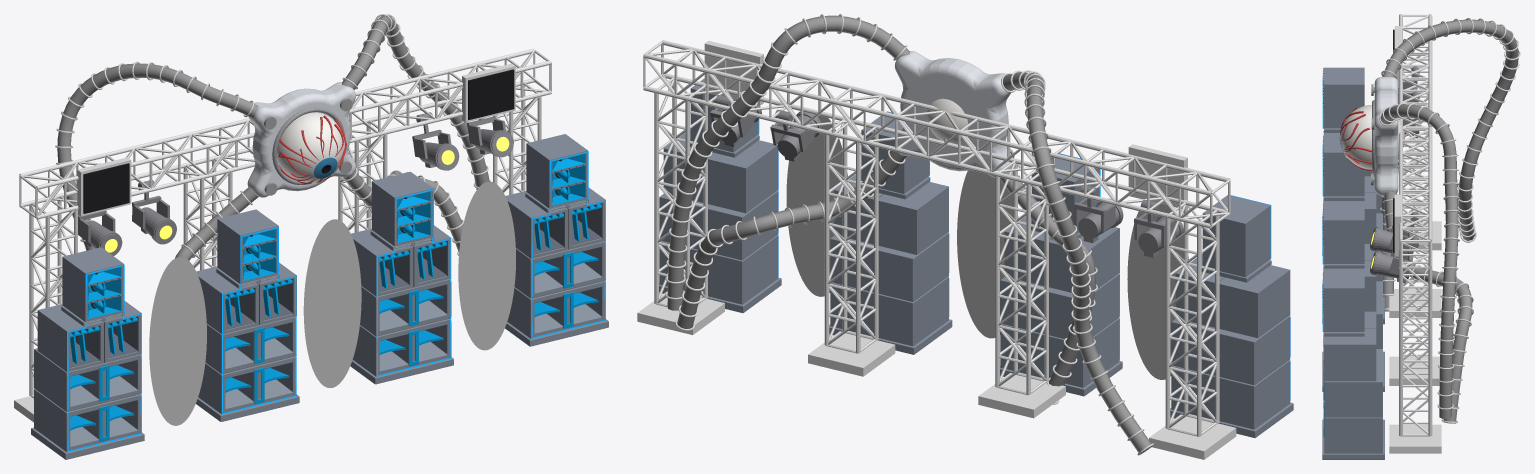
Rendered from sound_system.fbx.
The picture shows the model from 3 angles, left to right: view 1: azimuth 30°, elevation 25°; view 2: azimuth 150°, elevation 25°; view 3: azimuth 270°, elevation 25°; orthographic projection. The views are drawn at different scales.
Parts seen in each view (by area): view 1: Traliccio_Trave, Cartellone_Ovale_Centro, Cartellone_Ovale_Dx, Cartellone_Ovale_Sx, Cerchio, Top_Body.003, Occhio, Top_Body, PercorsoNurbs.001, Top_Body.002, Top_Body.001, Bass_Upper (+39 smaller); view 2: Traliccio_Trave, Traliccio_Torre_01, Traliccio_Torre_03, Traliccio_Torre_02, Cerchio, PercorsoNurbs, PercorsoNurbs.001, Cartellone_Ovale_Centro, Traliccio_Torre_04, Cartellone_Ovale_Dx, Cartellone_Ovale_Sx, Bass_Upper (+38 smaller); view 3: Traliccio_Trave, PercorsoNurbs, PercorsoNurbs.001, Traliccio_Torre_04, Cerchio, Top_Body.002, Top_Body.003, Mid_1.002, Bass_Upper.002, Top_Body, Bass_Lower.002, PercorsoNurbs.002 (+23 smaller).
Part boxes in pixels (left/top/right/bottom): Traliccio_Trave: left=19, top=48, right=551, bottom=219; Cartellone_Ovale_Centro: left=303, top=219, right=361, bottom=387; Cartellone_Ovale_Dx: left=458, top=181, right=515, bottom=350; Cartellone_Ovale_Sx: left=149, top=257, right=206, bottom=425; Cerchio: left=247, top=82, right=355, bottom=197; Top_Body.003: left=371, top=171, right=433, bottom=246; Occhio: left=277, top=112, right=346, bottom=183; Top_Body: left=62, top=247, right=123, bottom=321; PercorsoNurbs.001: left=57, top=63, right=258, bottom=250; Top_Body.002: left=526, top=134, right=587, bottom=208; Top_Body.001: left=217, top=209, right=278, bottom=283; Bass_Upper: left=34, top=348, right=140, bottom=411; Traliccio_Trave: left=643, top=40, right=1230, bottom=228; Traliccio_Torre_01: left=1165, top=202, right=1219, bottom=436; Traliccio_Torre_03: left=824, top=119, right=878, bottom=353; Traliccio_Torre_02: left=995, top=160, right=1048, bottom=395; Cerchio: left=894, top=51, right=1012, bottom=177; PercorsoNurbs: left=667, top=15, right=909, bottom=310; PercorsoNurbs.001: left=1001, top=72, right=1152, bottom=454; Cartellone_Ovale_Centro: left=957, top=170, right=1018, bottom=338; Traliccio_Torre_04: left=654, top=77, right=707, bottom=307; Cartellone_Ovale_Dx: left=786, top=115, right=847, bottom=296; Cartellone_Ovale_Sx: left=1127, top=204, right=1188, bottom=379; Bass_Upper: left=1171, top=315, right=1290, bottom=385; Traliccio_Trave: left=1399, top=14, right=1432, bottom=269; PercorsoNurbs: left=1380, top=104, right=1458, bottom=418; PercorsoNurbs.001: left=1382, top=19, right=1518, bottom=240; Traliccio_Torre_04: left=1399, top=249, right=1432, bottom=436; Cerchio: left=1374, top=77, right=1398, bottom=195; Top_Body.002: left=1322, top=271, right=1364, bottom=331; Top_Body.003: left=1322, top=203, right=1364, bottom=263; Mid_1.002: left=1324, top=328, right=1376, bottom=381; Bass_Upper.002: left=1324, top=349, right=1382, bottom=417; Top_Body: left=1322, top=67, right=1364, bottom=128; Bass_Lower.002: left=1324, top=417, right=1382, bottom=453; PercorsoNurbs.002: left=1384, top=191, right=1472, bottom=423.
Bounding box in the file's own units: 865 × 488 × 304.
